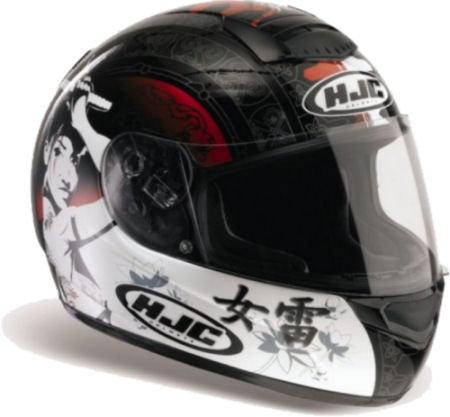helmet: (45, 19, 434, 379)
